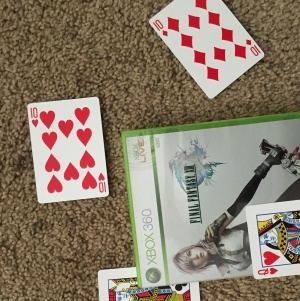card: (26, 97, 111, 204)
